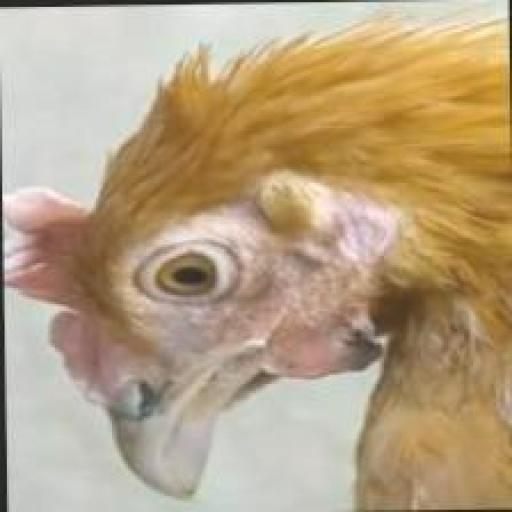healthy: (1, 136, 285, 476)
